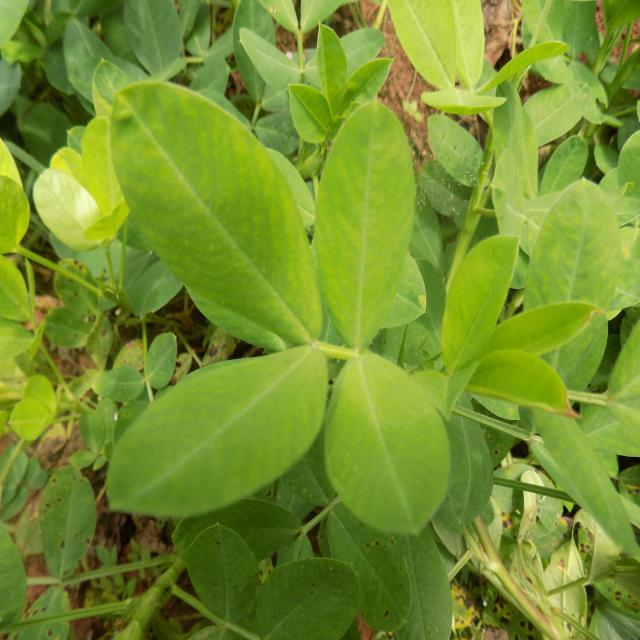Ground nut_healthy: (109, 81, 318, 350), (110, 350, 330, 515), (444, 233, 596, 418), (318, 98, 412, 346), (328, 351, 452, 532)
